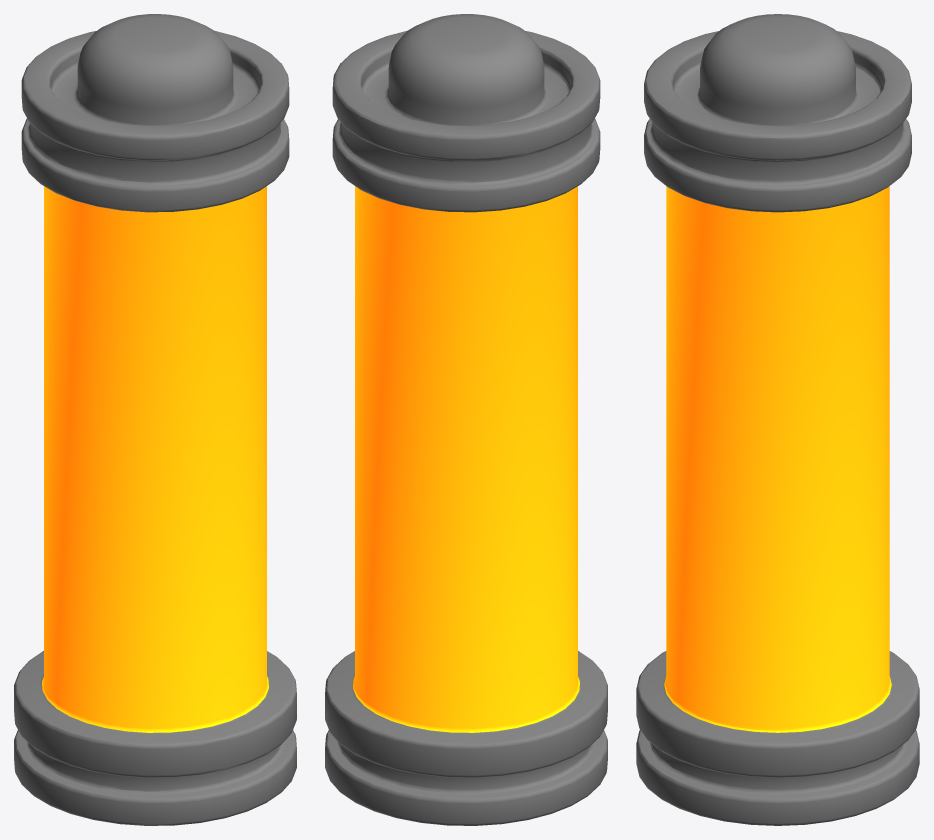
The model's file is Science_vial_yellow.fbx.
3 views of the same model, side by side, from view 1: azimuth 30°, elevation 25°; view 2: azimuth 150°, elevation 25°; view 3: azimuth 270°, elevation 25° (orthographic).
Parts seen in each view (by area): view 1: Cylinder; view 2: Cylinder; view 3: Cylinder.
Boxes of the visible parts, box(x1,y1,x2,y2) form: Cylinder: box(14, 14, 296, 825); Cylinder: box(325, 14, 607, 825); Cylinder: box(636, 14, 919, 825).
Bounding box in the file's own units: 99.73 × 285 × 99.73.
